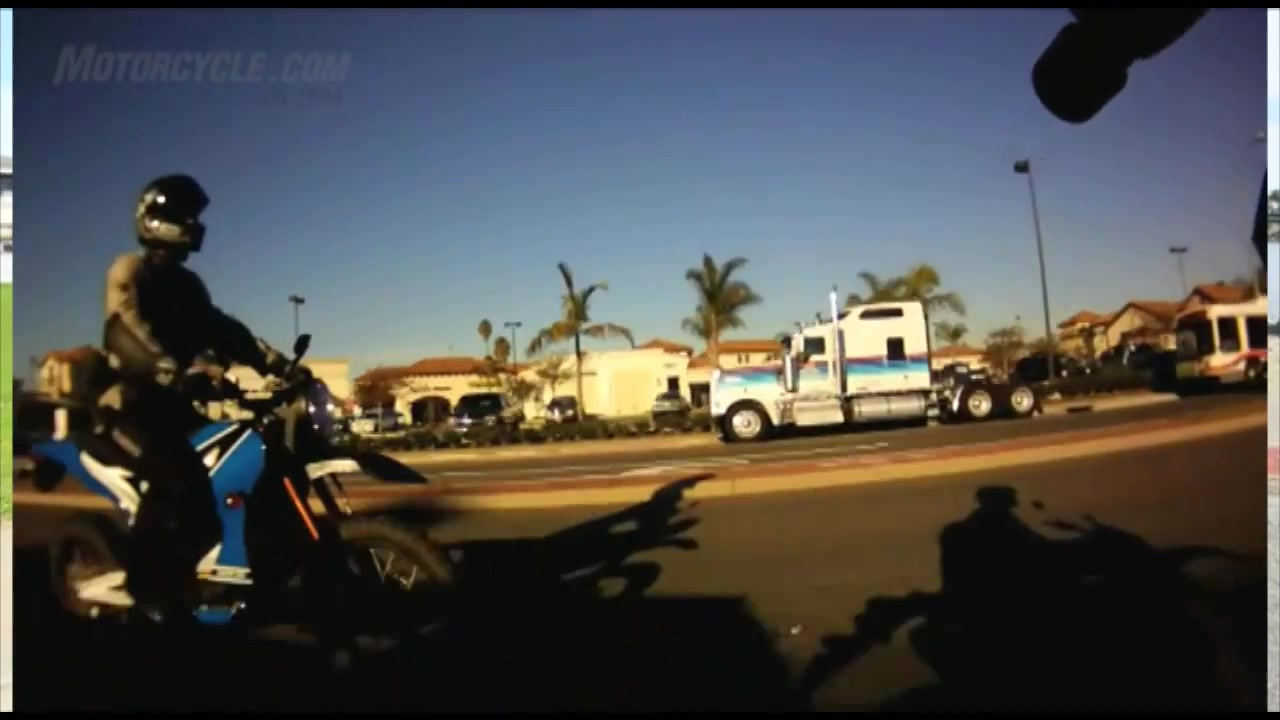motorbike: (17, 332, 470, 672)
